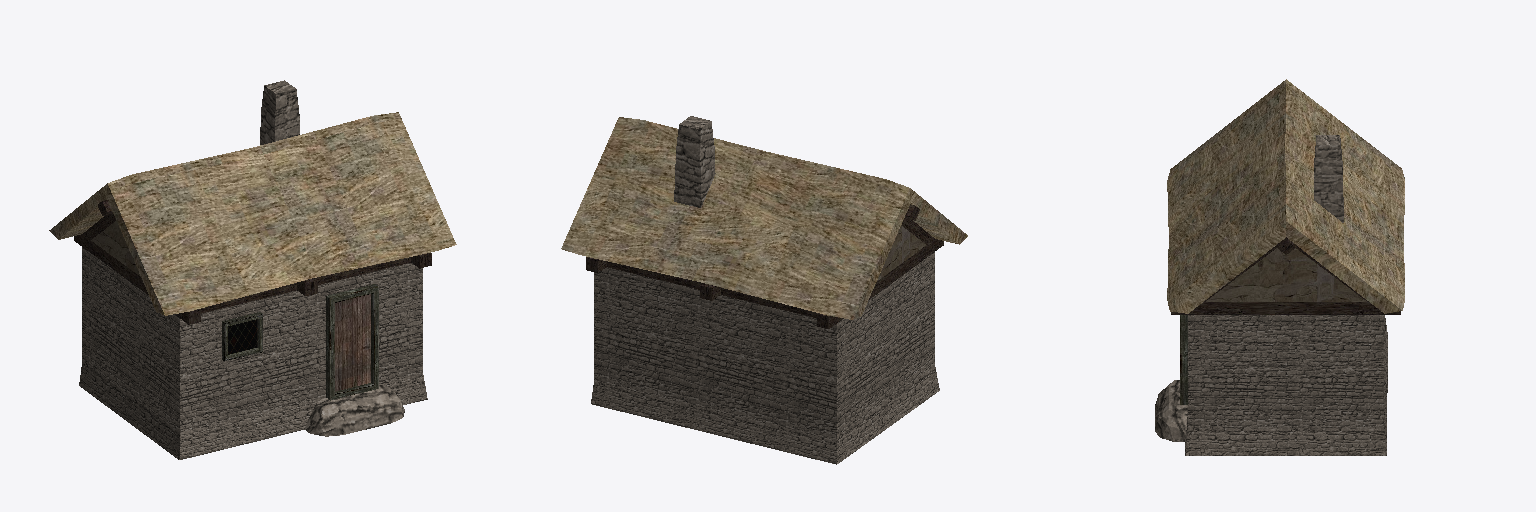
3 views of the same model, side by side, from view 1: azimuth 30°, elevation 25°; view 2: azimuth 150°, elevation 25°; view 3: azimuth 270°, elevation 25° (orthographic).
Visible parts, largest first — view 1: Cube; view 2: Cube; view 3: Cube.
Part boxes in pixels (x1,y1,x2,y2): Cube: (49,80,456,459); Cube: (561,116,967,464); Cube: (1155,79,1404,455).
Bounding box in the file's own units: 12.4 × 10.96 × 8.95.
1 materials, 1 textured.